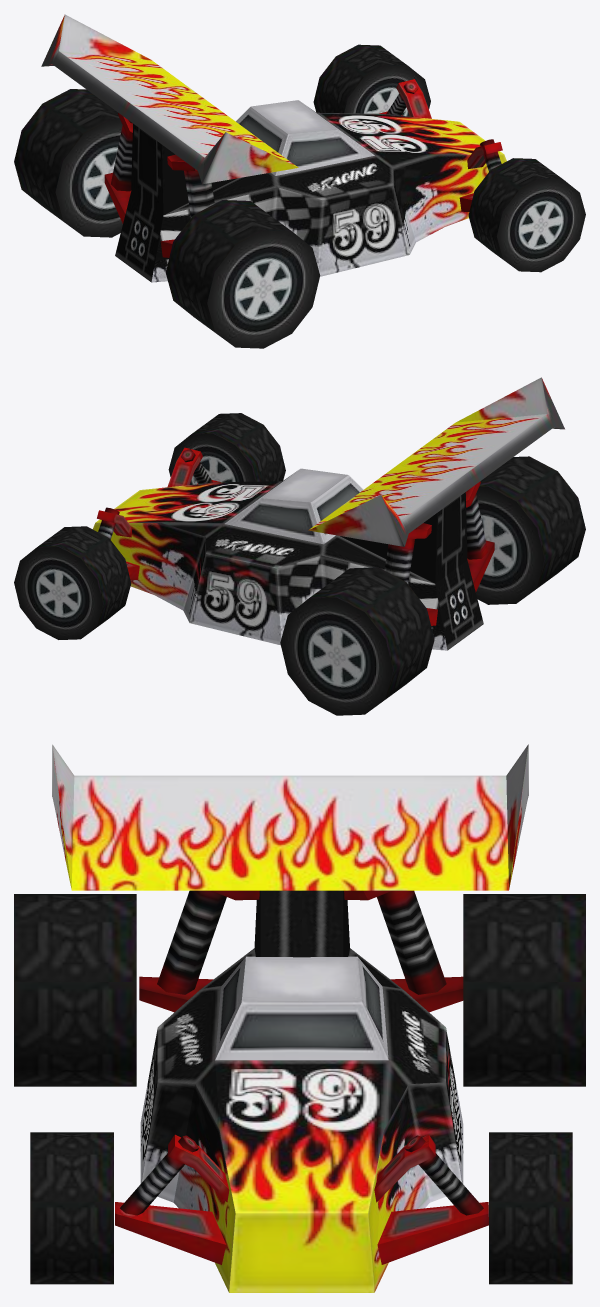
The model's file is car1.fbx.
3 renders of one model, top to bottom at view 1: azimuth 30°, elevation 25°; view 2: azimuth 150°, elevation 25°; view 3: azimuth 270°, elevation 25°, orthographic. The views are drawn at different scales.
Parts seen in each view (by area): view 1: car1; view 2: car1; view 3: car1.
Boxes of the visible parts, <box> form: car1: <box>14,14,585,348</box>; car1: <box>14,377,585,715</box>; car1: <box>14,744,585,1292</box>.
Size of the model in its own units: 2.34 by 1.23 by 2.02.
